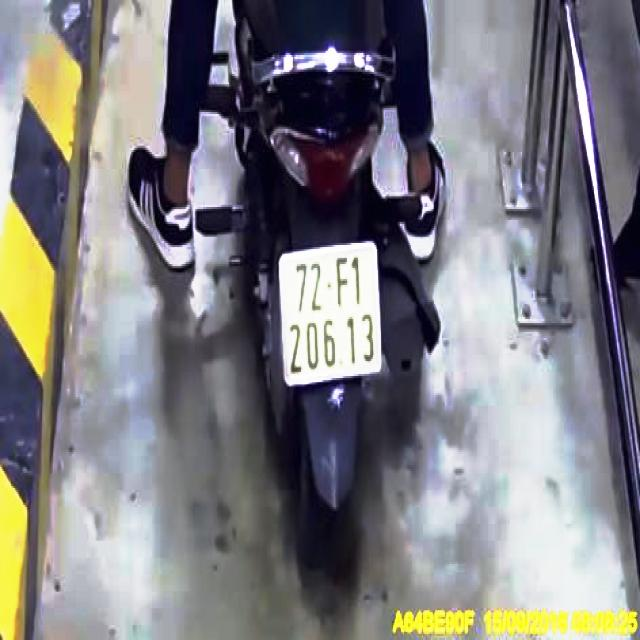license_plate: (281, 246, 383, 382)
